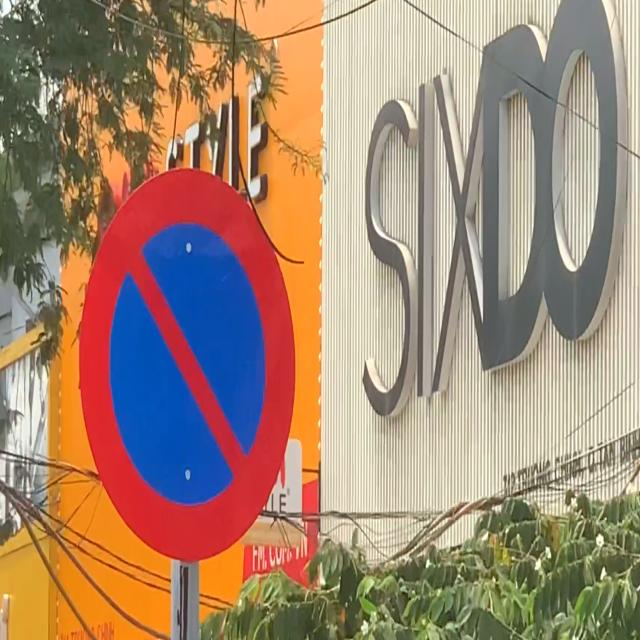Cam do: (79, 167, 296, 562)
